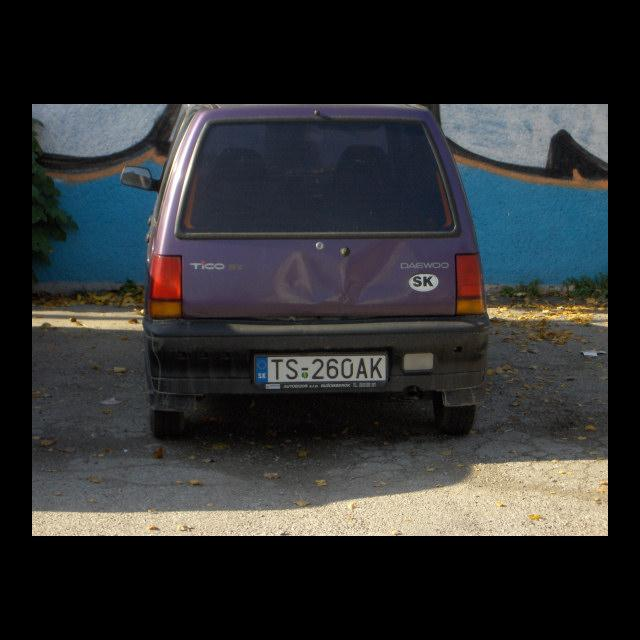Plate: (251, 350, 390, 386)
